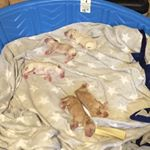puppy: (55, 93, 97, 140), (73, 82, 113, 118), (16, 59, 67, 85), (39, 35, 79, 63), (60, 25, 99, 53)
